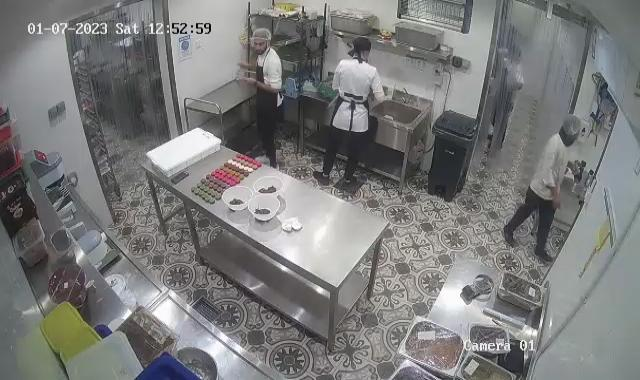hairnet: (561, 110, 585, 141), (252, 29, 273, 48)
no_hairnet: (348, 35, 372, 61)
